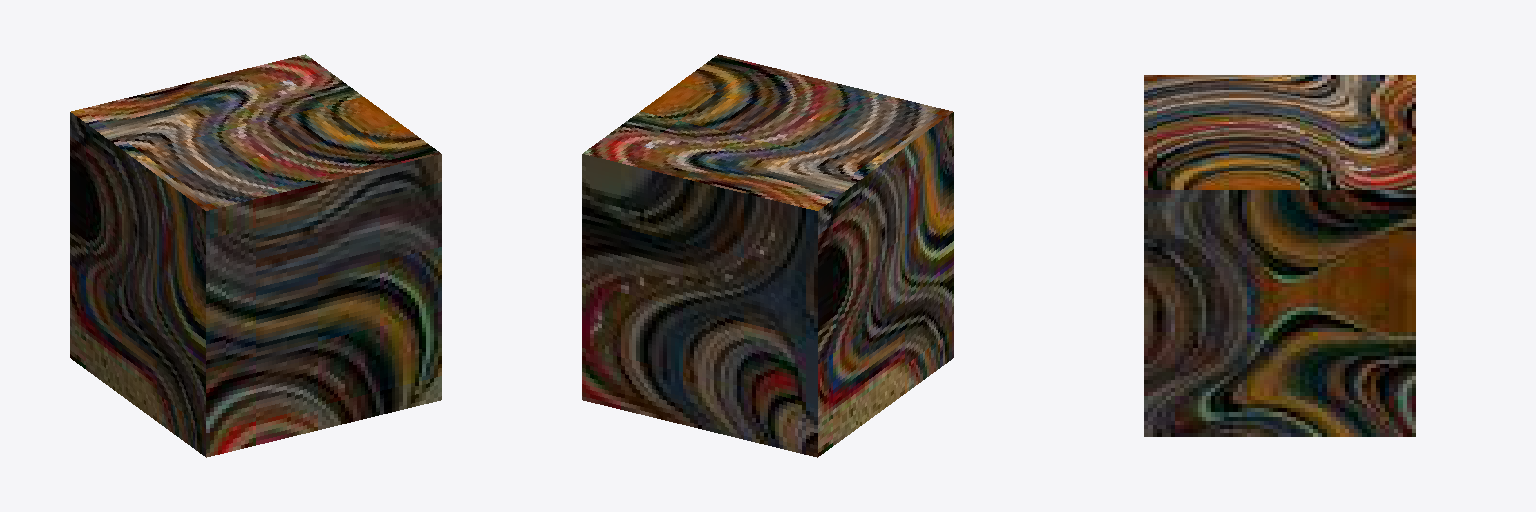
The picture shows the model from 3 angles: view 1: azimuth 30°, elevation 25°; view 2: azimuth 150°, elevation 25°; view 3: azimuth 270°, elevation 25°; orthographic projection.
Parts seen in each view (by area): view 1: Cube; view 2: Cube; view 3: Cube.
Part boxes in pixels (left/top/right/bottom): Cube: left=70, top=54, right=441, bottom=457; Cube: left=582, top=54, right=953, bottom=457; Cube: left=1144, top=75, right=1415, bottom=436.
Size of the model in its own units: 2 by 2 by 2.
1 materials, 1 textured.